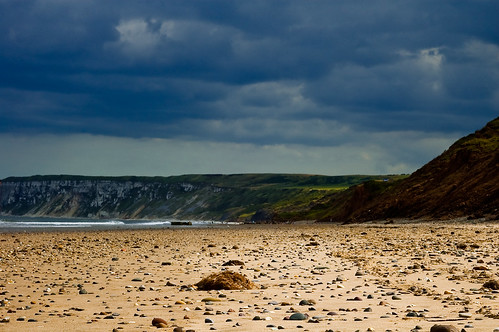beach: (4, 233, 499, 332)
sky: (9, 1, 499, 168)
